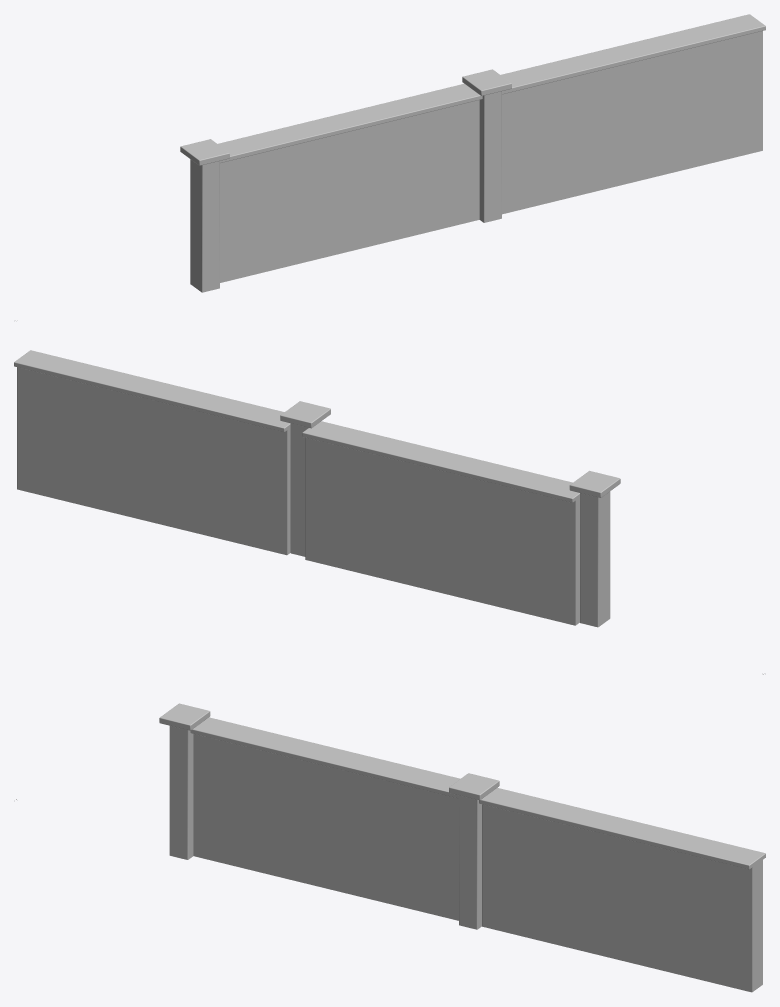
3 renders of one model, top to bottom at view 1: azimuth 30°, elevation 25°; view 2: azimuth 150°, elevation 25°; view 3: azimuth 330°, elevation 25°, orthographic.
Parts seen in each view (by area): view 1: wall_4_wall_0.007, wall_1_wall_0.007, wall_2_wall_0.018, wall_3_wall_0.014, wall_2_wall_0.019, wall_3_wall_0.015; view 2: wall_1_wall_0.007, wall_4_wall_0.007, wall_2_wall_0.018, wall_3_wall_0.014, wall_2_wall_0.019, wall_3_wall_0.015; view 3: wall_4_wall_0.007, wall_1_wall_0.007, wall_2_wall_0.018, wall_3_wall_0.014, wall_2_wall_0.019, wall_3_wall_0.015.
Part boxes in pixels (box(x1,y1,x2,y2)): wall_4_wall_0.007: box(501, 14, 765, 214); wall_1_wall_0.007: box(218, 83, 482, 282); wall_2_wall_0.018: box(180, 139, 229, 292); wall_3_wall_0.014: box(462, 69, 511, 222); wall_2_wall_0.019: box(180, 149, 228, 292); wall_3_wall_0.015: box(462, 77, 511, 222); wall_1_wall_0.007: box(302, 421, 579, 625); wall_4_wall_0.007: box(14, 350, 290, 555); wall_2_wall_0.018: box(569, 471, 620, 627); wall_3_wall_0.014: box(280, 401, 330, 556); wall_2_wall_0.019: box(570, 479, 620, 627); wall_3_wall_0.015: box(280, 414, 330, 556); wall_4_wall_0.007: box(479, 788, 765, 992); wall_1_wall_0.007: box(190, 717, 460, 920); wall_2_wall_0.018: box(159, 703, 210, 859); wall_3_wall_0.014: box(449, 773, 499, 929); wall_2_wall_0.019: box(159, 712, 209, 859); wall_3_wall_0.015: box(449, 782, 499, 929).
Size of the model in its own units: 2120 by 376 by 112.
